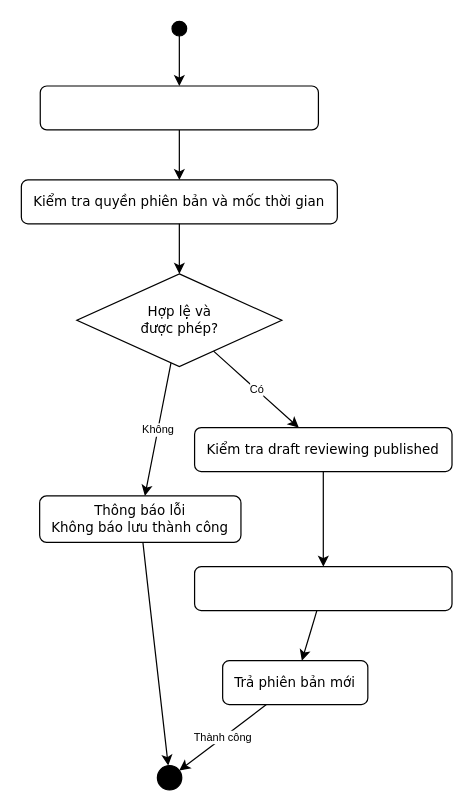
The diagram is 473 pixels wide and 811 high, and some of its shapes have lost their labels. Here are the shapes that lost their labels. From the top down, the centre of each, then its label:
At pixel 178 107: "Chọn video ngôn ngữ và loại nội dung".
At pixel 322 588: "Transaction lưu nội dung và lịch sử".
